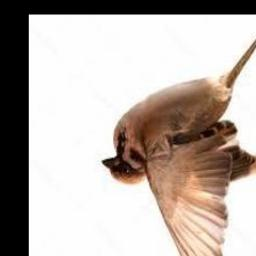Sparrow: (102, 27, 256, 256)
